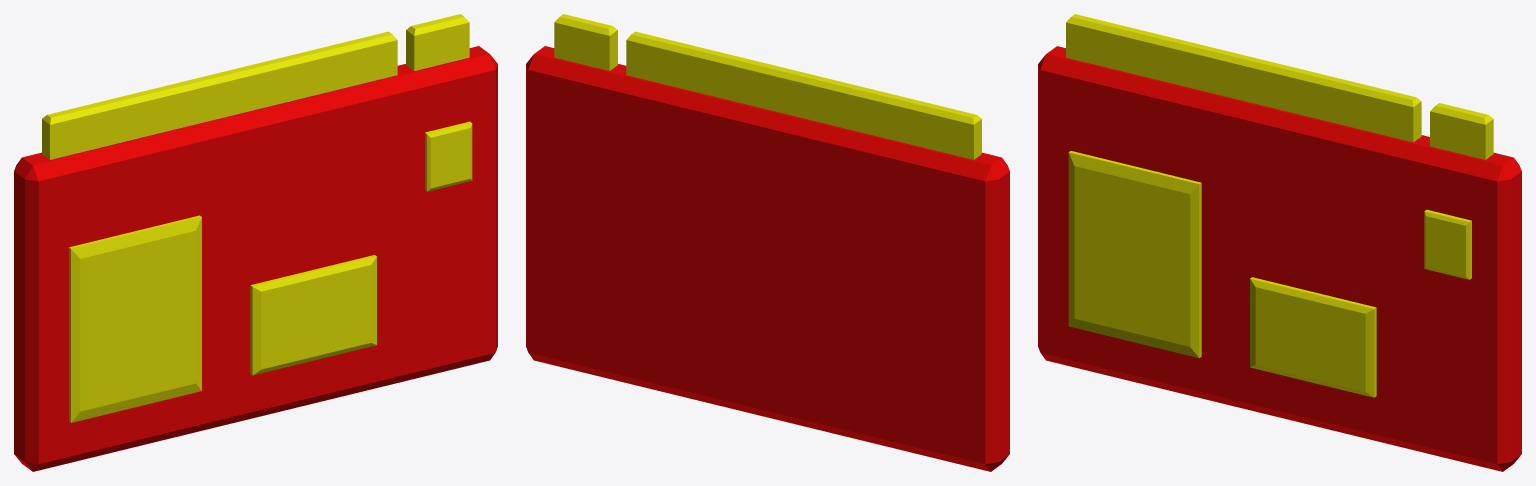
File: Tarjeta_2.fbx
3 views of the same model, side by side, from view 1: azimuth 30°, elevation 25°; view 2: azimuth 150°, elevation 25°; view 3: azimuth 330°, elevation 25° (orthographic).
Visible parts, largest first — view 1: pCube15; view 2: pCube15; view 3: pCube15.
Part boxes in pixels (x1,y1,x2,y2): pCube15: (14, 14, 497, 471); pCube15: (526, 14, 1009, 471); pCube15: (1038, 14, 1521, 471).
Bounding box in the file's own units: 1.61 × 1.13 × 0.1537.
